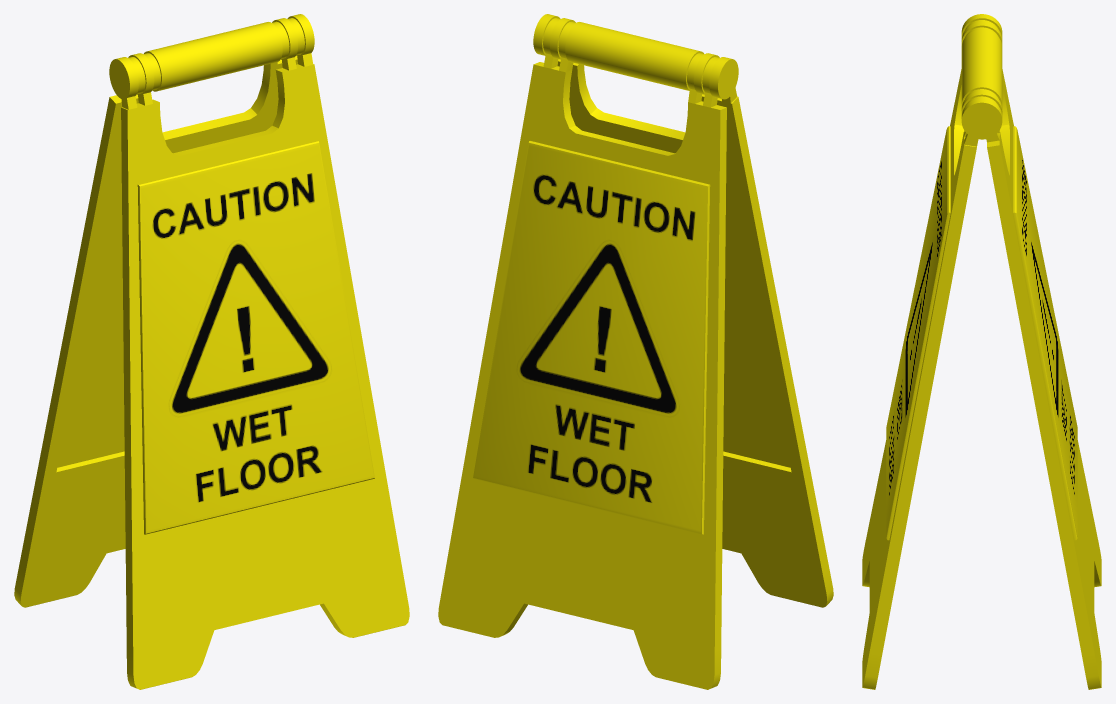
The model's file is Caution.fbx.
3 renders of one model, left to right at view 1: azimuth 30°, elevation 25°; view 2: azimuth 150°, elevation 25°; view 3: azimuth 270°, elevation 25°, orthographic.
Visible parts, largest first — view 1: Back, Front, Handle; view 2: Front, Back, Handle; view 3: Back, Front, Handle.
Part boxes in pixels (x1=…): Back: x1=109, y1=14, x2=409, y2=689; Front: x1=14, y1=18, x2=304, y2=607; Handle: x1=144, y1=22, x2=282, y2=91; Front: x1=438, y1=18, x2=726, y2=689; Back: x1=533, y1=14, x2=833, y2=607; Handle: x1=565, y1=22, x2=703, y2=90; Back: x1=862, y1=14, x2=1002, y2=689; Front: x1=965, y1=20, x2=1101, y2=689; Handle: x1=961, y1=29, x2=1002, y2=106.
Bounding box in the file's own units: 48.34 × 96.67 × 36.92.
